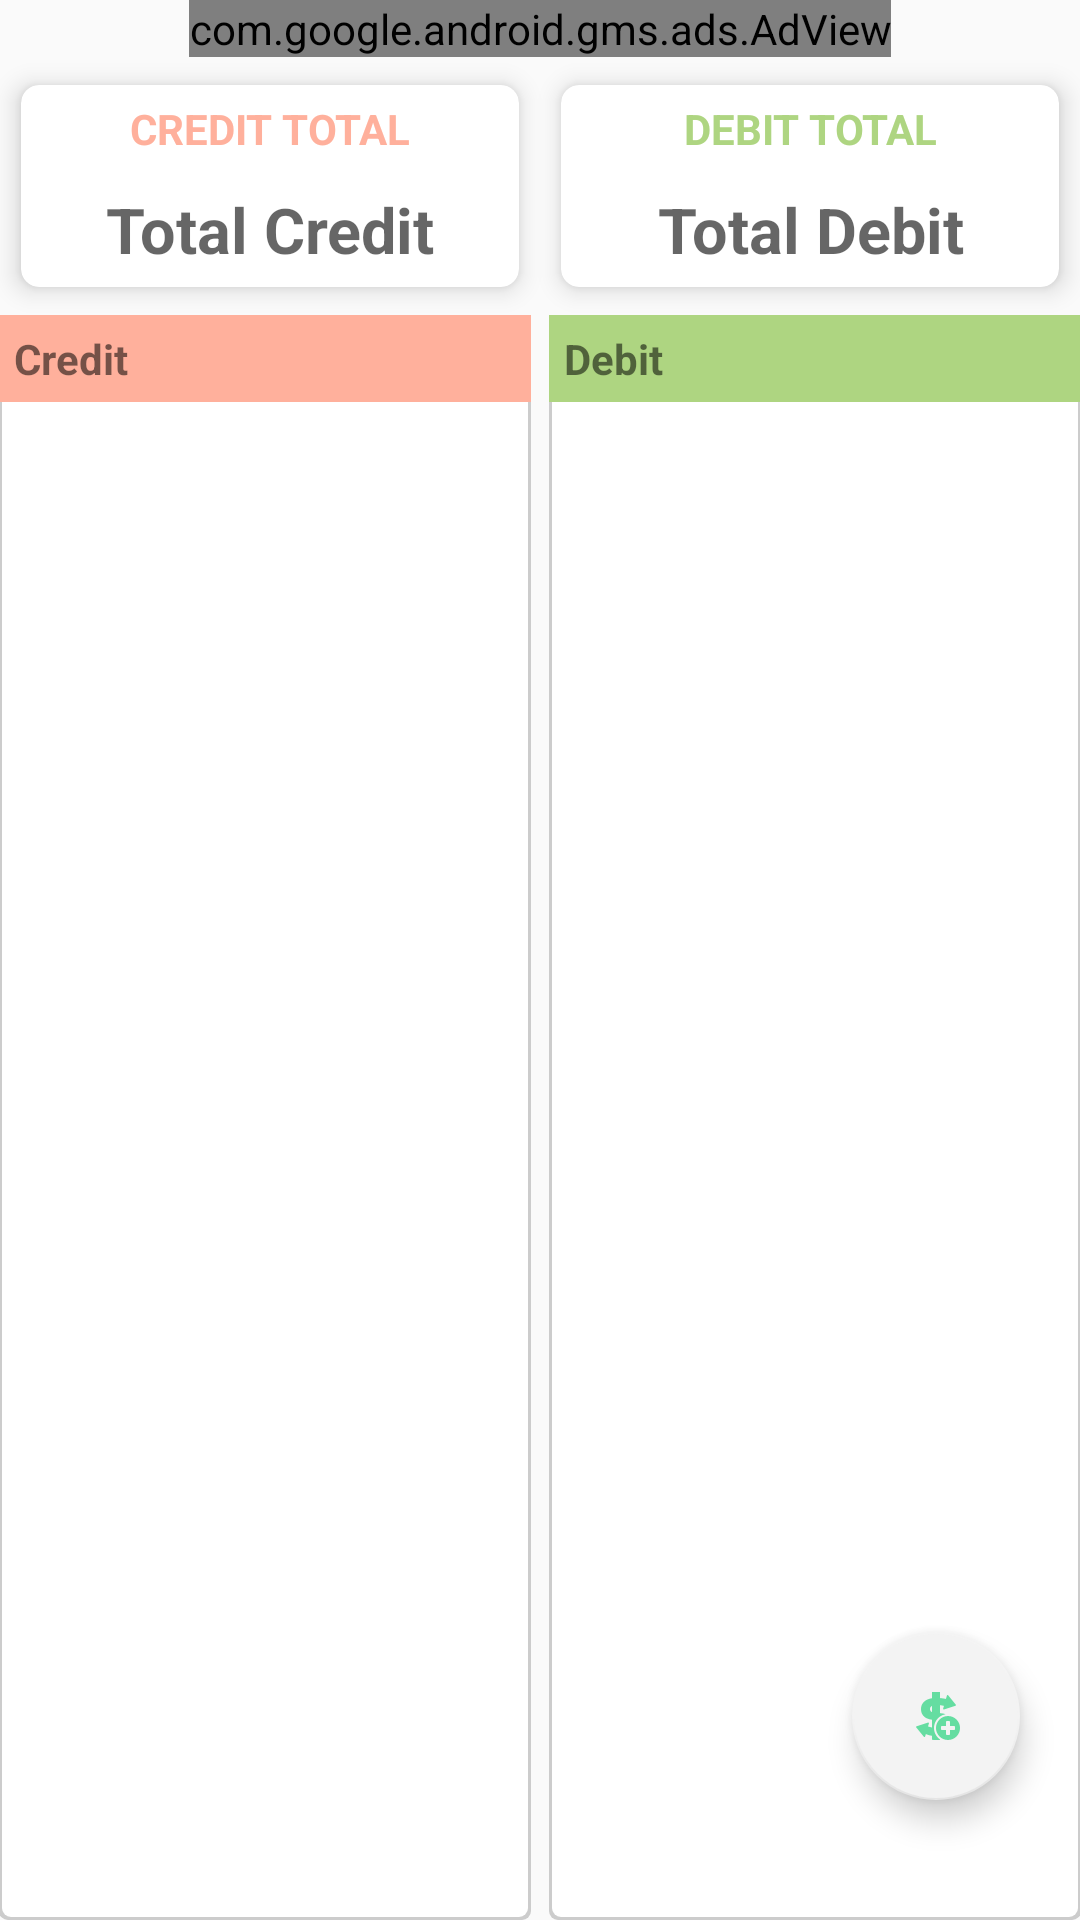

Icons on this 1080 x 1920 Android screen, each with its box as (x1, y1, x2, y2):
transaction add: (852, 1632, 1020, 1800)
